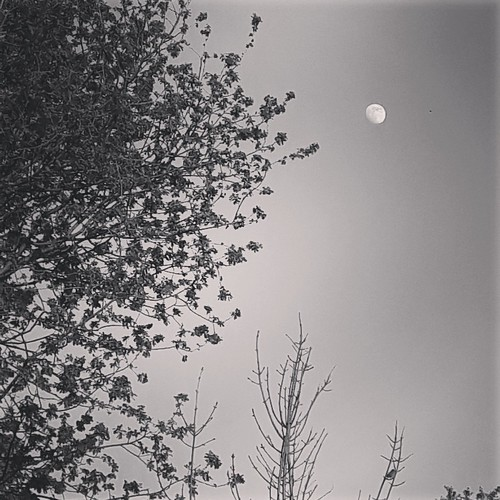moon: (360, 99, 388, 127)
sky: (246, 1, 500, 366)
tree: (1, 1, 304, 500), (249, 338, 325, 500)
